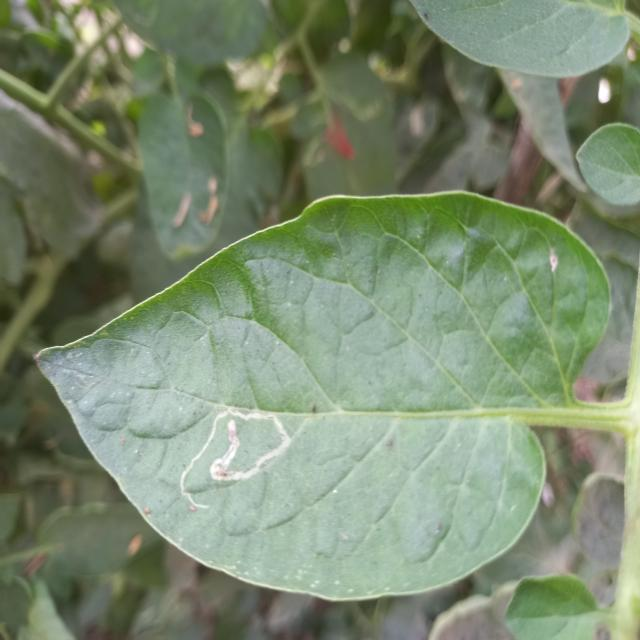Tuta absoluta: (159, 387, 298, 517)
